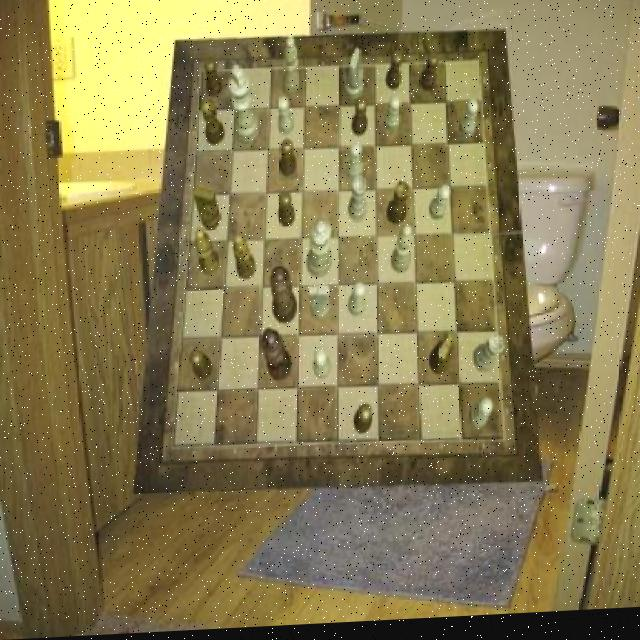bishop: (195, 230, 220, 278), (232, 236, 255, 283)
black-bishop: (260, 330, 291, 385)
black-king: (192, 188, 220, 233), (429, 338, 454, 381)
black-knight: (419, 57, 438, 97), (384, 54, 402, 94), (190, 351, 212, 383), (278, 142, 296, 180), (204, 60, 221, 99), (352, 102, 368, 141), (353, 406, 372, 438), (277, 194, 294, 229)
black-pawn: (270, 268, 297, 327)
black-queen: (200, 102, 223, 148), (386, 185, 409, 228)
black-rook: (391, 229, 414, 278), (282, 39, 300, 97)
white-bishop: (228, 66, 258, 148)
white-king: (344, 53, 363, 104), (308, 288, 331, 324)
white-knight: (428, 189, 451, 225), (468, 403, 492, 435), (459, 104, 478, 142), (277, 99, 294, 138), (346, 147, 363, 185), (383, 99, 400, 136), (349, 285, 366, 321), (313, 351, 331, 383)
white-pawn: (306, 220, 332, 282)
white-queen: (471, 340, 503, 379), (348, 180, 368, 227)
